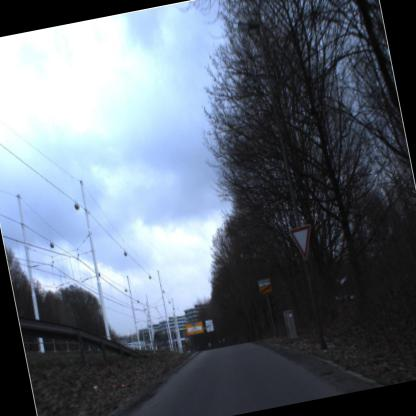other: (283, 220, 318, 264)
